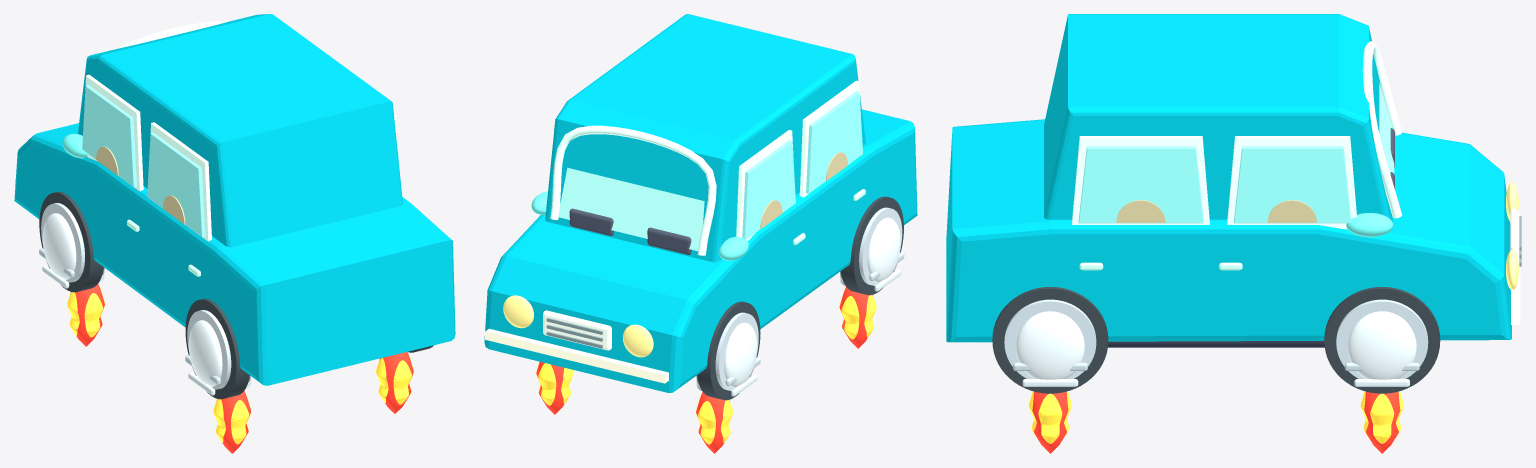
Rendered from ship-22.glb.
3 views of the same model, side by side, from view 1: azimuth 30°, elevation 25°; view 2: azimuth 150°, elevation 25°; view 3: azimuth 270°, elevation 25° (orthographic). The views are drawn at different scales.
Parts seen in each view (by area): view 1: 마이카, engine-flame (×3); view 2: 마이카, engine-flame (×3); view 3: 마이카, engine-flame (×2).
Boxes of the visible parts, x1,y1,x2,y2 form: 마이카: (14, 14, 455, 399); engine-flame (×3): (67, 284, 413, 453); 마이카: (484, 14, 917, 400); engine-flame (×3): (536, 287, 876, 453); 마이카: (946, 14, 1521, 393); engine-flame (×2): (1028, 391, 1403, 453).
Bounding box in the file's own units: 14.32 × 18.02 × 27.
